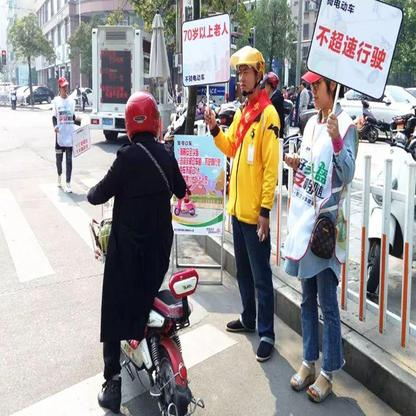target: (83, 88, 210, 413)
